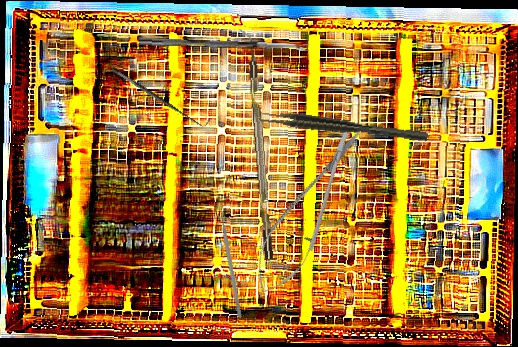Chopper: (236, 27, 274, 261), (218, 205, 248, 319)
Hook Surgical: (110, 59, 211, 133)
Micro Scissor: (241, 114, 376, 305)
Surgical Spoon: (138, 38, 310, 52)
Tissue Forceps: (258, 108, 429, 147)
